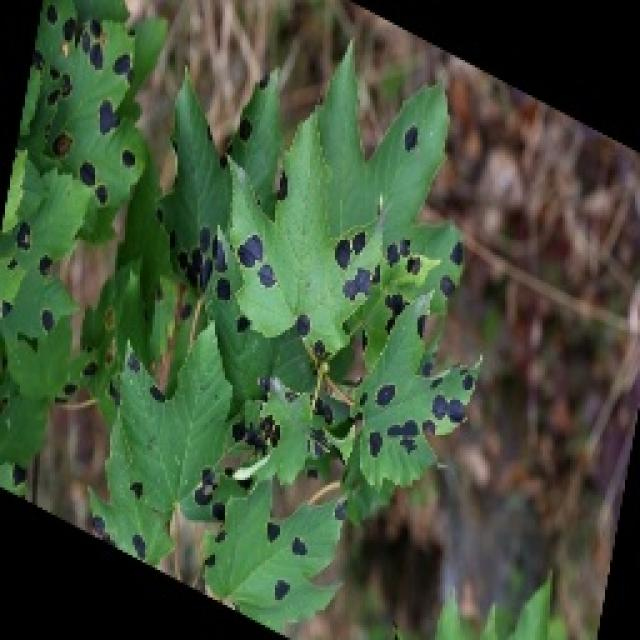Tar_Spot: (229, 215, 488, 470), (29, 35, 168, 236)
